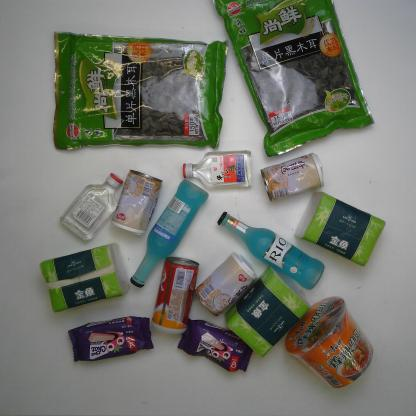Alcohol: (130, 180, 209, 288), (217, 212, 324, 289), (60, 174, 124, 242), (182, 150, 252, 188)
Canned Food: (195, 252, 257, 316), (150, 257, 198, 334), (112, 170, 162, 235), (260, 152, 324, 201)
Dessert: (177, 318, 256, 372), (67, 317, 155, 361)
Dried Food: (213, 2, 375, 156), (52, 29, 229, 150)
Instant Noodles: (285, 297, 374, 389)
Tissue: (225, 266, 310, 357), (296, 191, 386, 266), (40, 243, 129, 312)
